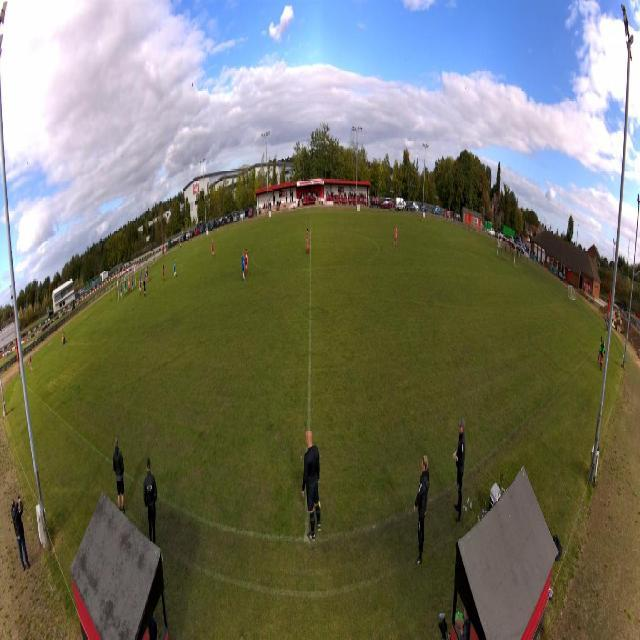ball: (124, 278, 125, 282)
player: (240, 252, 245, 283), (244, 247, 248, 278), (306, 227, 310, 255), (173, 258, 178, 279), (28, 354, 33, 374), (394, 223, 398, 247), (143, 278, 147, 300), (162, 264, 166, 283), (211, 239, 214, 260), (139, 275, 142, 295), (124, 280, 127, 297), (120, 283, 123, 300), (140, 268, 143, 284), (123, 281, 126, 297), (139, 278, 141, 297), (147, 265, 149, 283), (145, 267, 147, 283), (132, 274, 134, 290), (129, 277, 131, 293), (128, 276, 130, 291), (131, 277, 133, 291), (145, 270, 147, 282)
